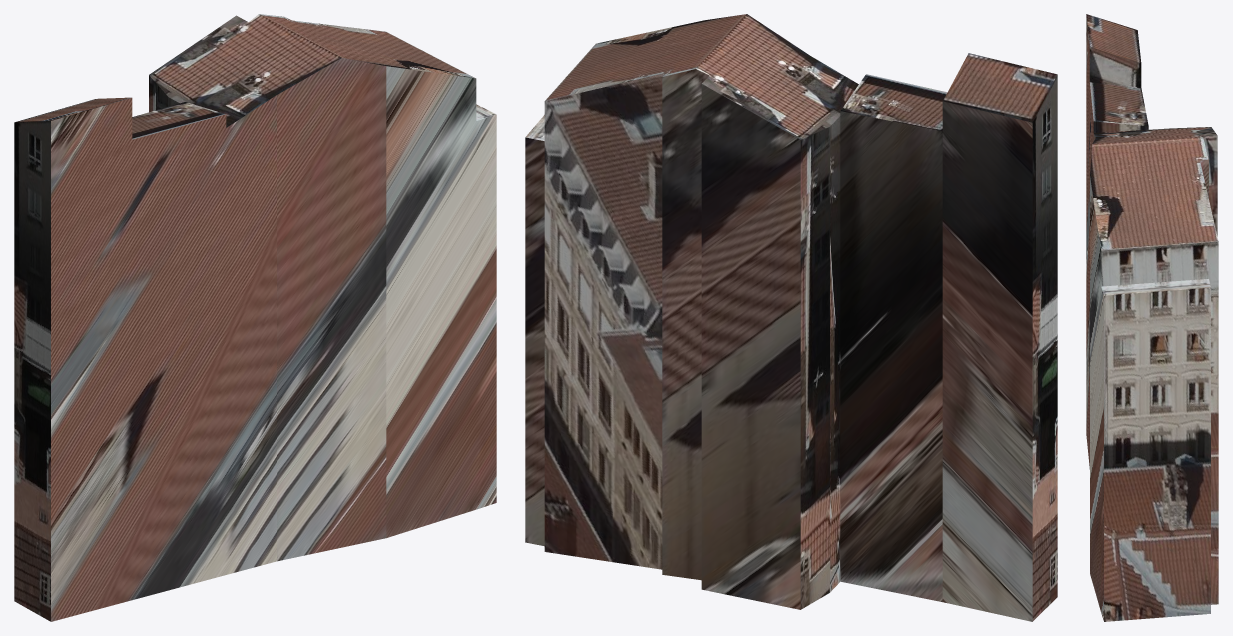
The picture shows the model from 3 angles, left to right: view 1: azimuth 30°, elevation 25°; view 2: azimuth 150°, elevation 25°; view 3: azimuth 270°, elevation 25°; orthographic projection. The views are drawn at different scales.
Visible parts, largest first — view 1: Z_UP; view 2: Z_UP; view 3: Z_UP.
Part boxes in pixels (left/top/right/bottom): Z_UP: left=14, top=14, right=496, bottom=621; Z_UP: left=525, top=14, right=1057, bottom=621; Z_UP: left=1086, top=14, right=1218, bottom=621.
Bounding box in the file's own units: 25.52 × 26.49 × 7.52.
2 materials, 1 textured.
